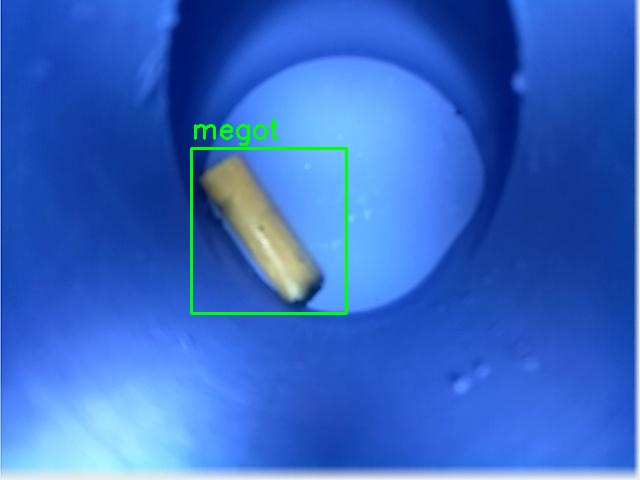megot: (191, 148, 346, 313)
